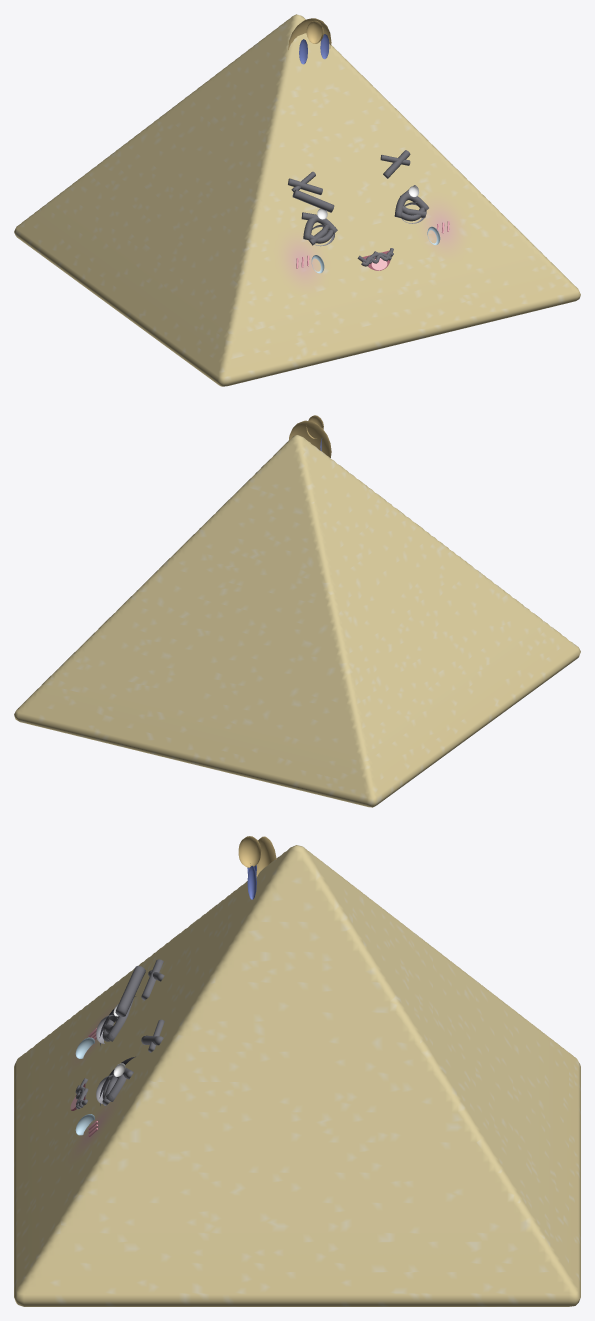
Rendered from e_gold_pyramid_slime.glb.
The picture shows the model from 3 angles, top to bottom: view 1: azimuth 30°, elevation 25°; view 2: azimuth 150°, elevation 25°; view 3: azimuth 270°, elevation 25°; orthographic projection. The views are drawn at different scales.
Visible parts, largest first — view 1: BodyMesh, face_eyes_happy, face_brows_angry; view 2: BodyMesh; view 3: BodyMesh, face_brow_smug, face_eyes_normal.
Part boxes in pixels (<box>): BodyMesh: <box>14,14,580,386</box>; face_eyes_happy: <box>303,193,428,240</box>; face_brows_angry: <box>288,150,410,194</box>; BodyMesh: <box>14,415,580,807</box>; BodyMesh: <box>14,836,580,1306</box>; face_brow_smug: <box>115,965,145,1016</box>; face_eyes_normal: <box>96,996,135,1105</box>.
Bounding box in the file's own units: 2.38 × 1.64 × 2.38.
